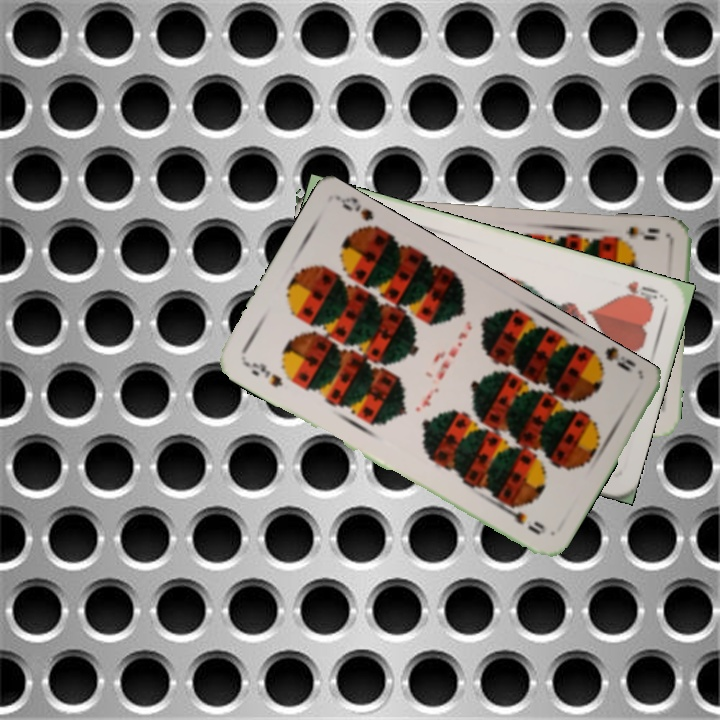HO: (617, 276, 665, 309)
S9: (584, 344, 637, 375), (240, 357, 285, 390), (609, 223, 662, 248)
